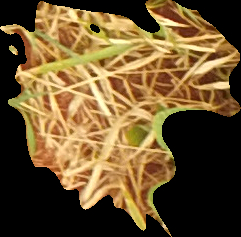soil: (1, 1, 240, 237)
